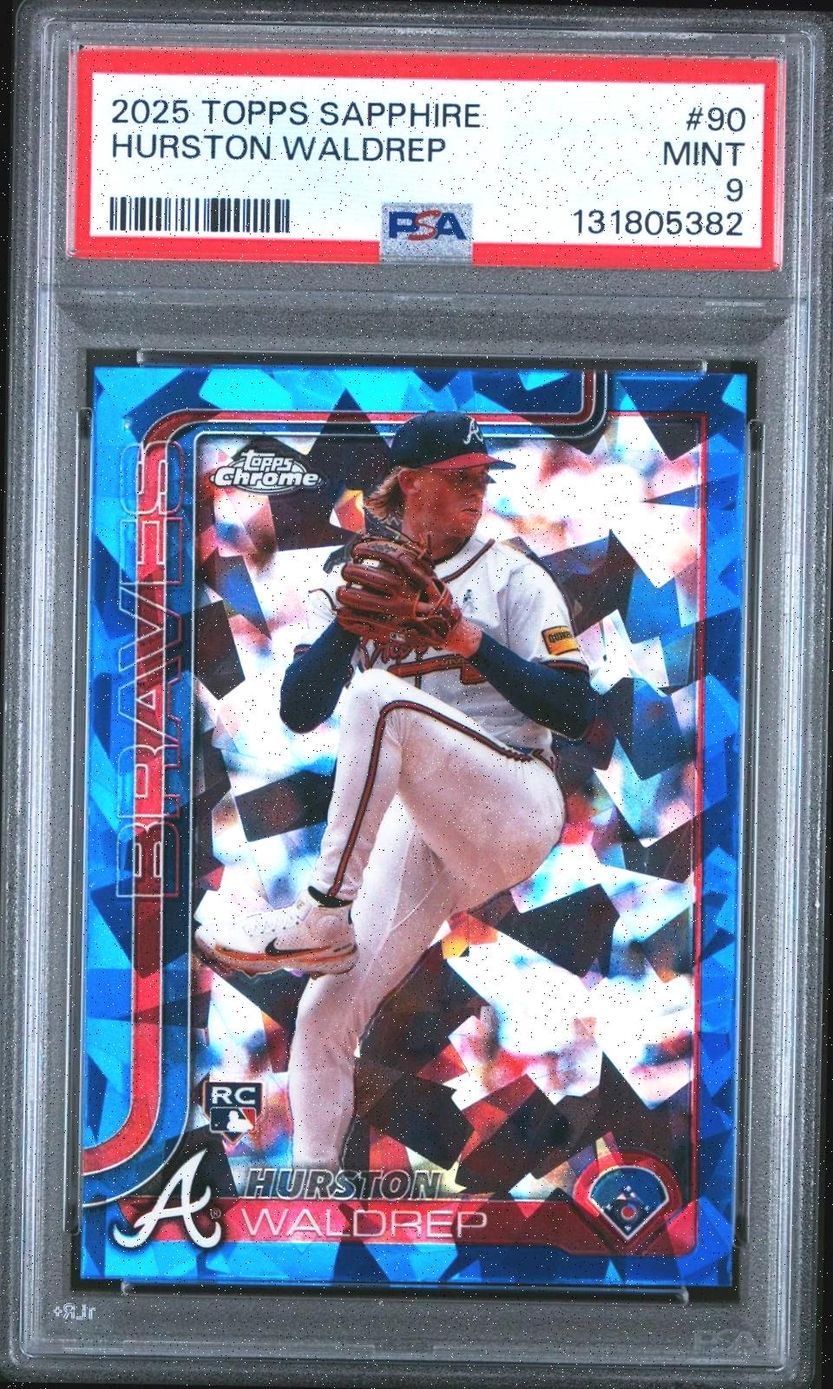card-2UtV: (78, 364, 749, 1289)
